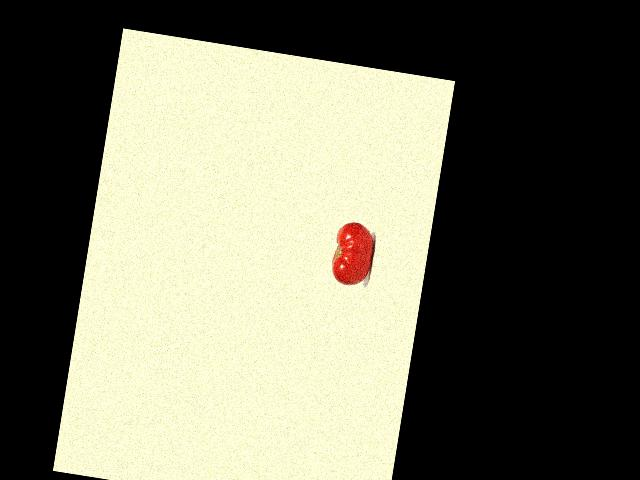tomato: (329, 219, 376, 287)
